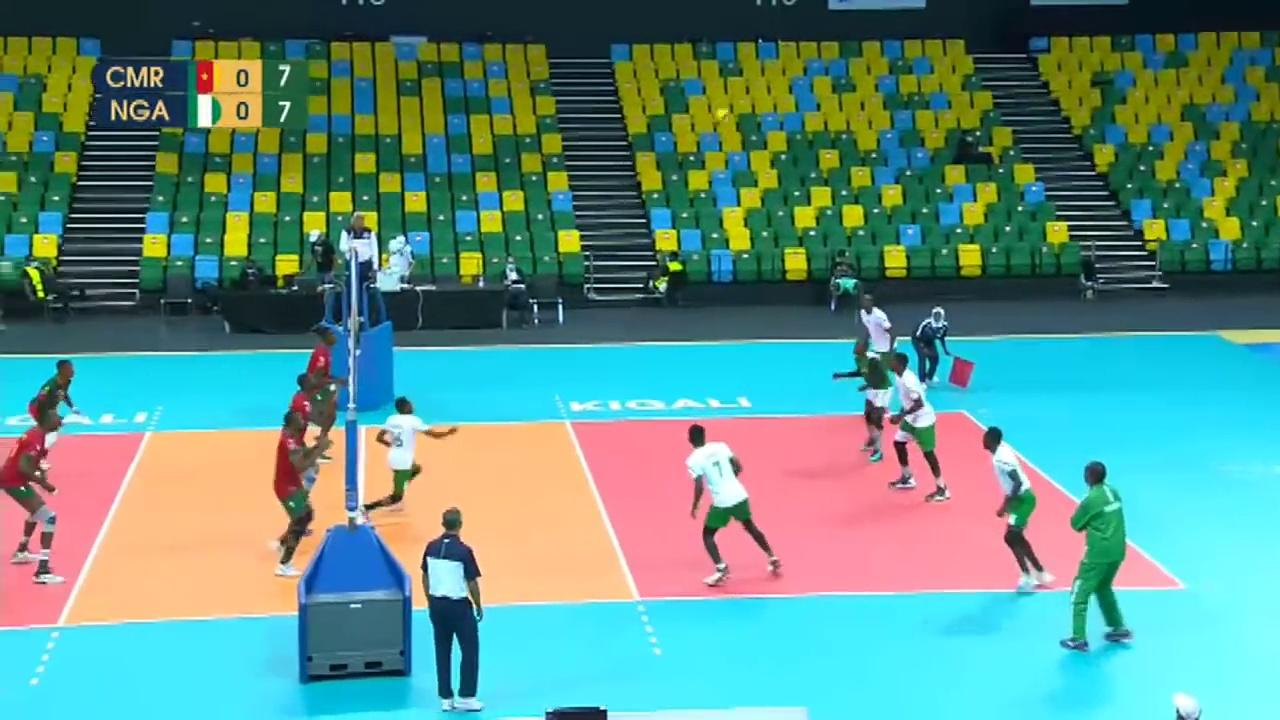player: (688, 423, 787, 589), (981, 426, 1055, 590), (1, 407, 67, 586), (369, 399, 460, 510), (264, 411, 314, 577), (889, 354, 944, 498), (279, 372, 326, 533), (299, 327, 347, 463), (847, 341, 899, 464), (27, 359, 75, 479), (856, 293, 900, 393)
refree: (417, 510, 486, 711), (913, 300, 977, 391), (341, 209, 383, 324)
